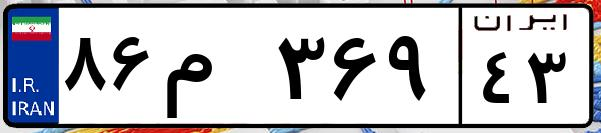3: (270, 28, 330, 110), (525, 38, 570, 115)
4: (475, 38, 525, 113)
6: (330, 28, 385, 110), (110, 28, 158, 98)
8: (57, 26, 110, 100)
9: (385, 28, 445, 110)
م: (158, 20, 270, 120)
